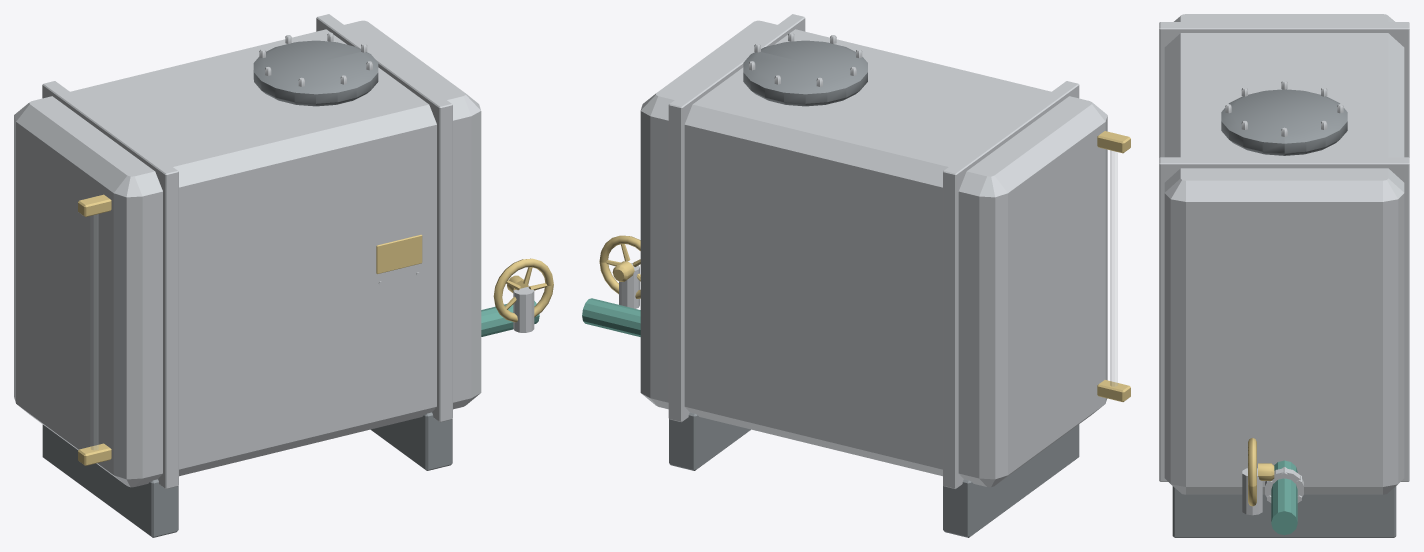
The model's file is submarine-interior-and-control-room-fresh-water-tank-fbe184d2__36518.glb.
3 views of the same model, side by side, from view 1: azimuth 30°, elevation 25°; view 2: azimuth 150°, elevation 25°; view 3: azimuth 270°, elevation 25° (orthographic).
Parts seen in each view (by area): view 1: fresh-water-tank, wheel-tank; view 2: fresh-water-tank, wheel-tank; view 3: fresh-water-tank, wheel-tank.
Boxes of the visible parts, x1=… form: fresh-water-tank: x1=14, y1=14, x2=539, y2=537; wheel-tank: x1=493, y1=258, x2=553, y2=322; fresh-water-tank: x1=582, y1=14, x2=1130, y2=537; wheel-tank: x1=599, y1=235, x2=640, y2=298; fresh-water-tank: x1=1159, y1=14, x2=1409, y2=537; wheel-tank: x1=1248, y1=438, x2=1274, y2=506.
Bounding box in the file's own units: 2.19 × 1.63 × 0.9401.
